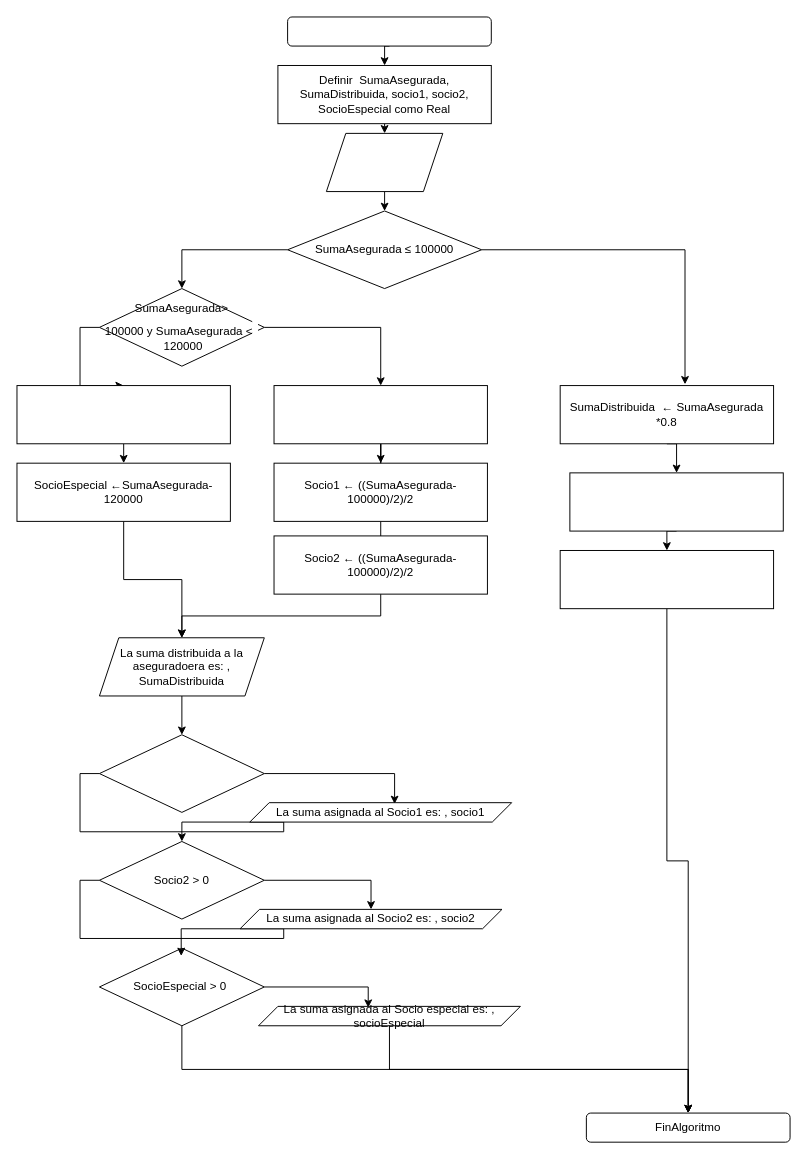
This 807x1159 diagram has some shape labels left out. Each missing label, with the centre of its shape:
"Algoritmo ManejoPolizasSeguraPro" goes at point 389,31.
"Ingrese la suma asegurada" goes at point 384,162.
"Socio1 > 0" goes at point 181,773.
"Socio1 ← (SumaAsegurada*0.2)/2" goes at point 676,501.
"Socio2 ← (SumaAsegurada*0.2)/2" goes at point 666,579.
"SumaDistribuida ← 100000*0.8 +(SumaAsegurada-100000)/2" goes at point 380,414.
"SumaDistribuida ← 100000*0.8+200000*0.8+(SumaAsegurada-120000)" goes at point 123,414.
